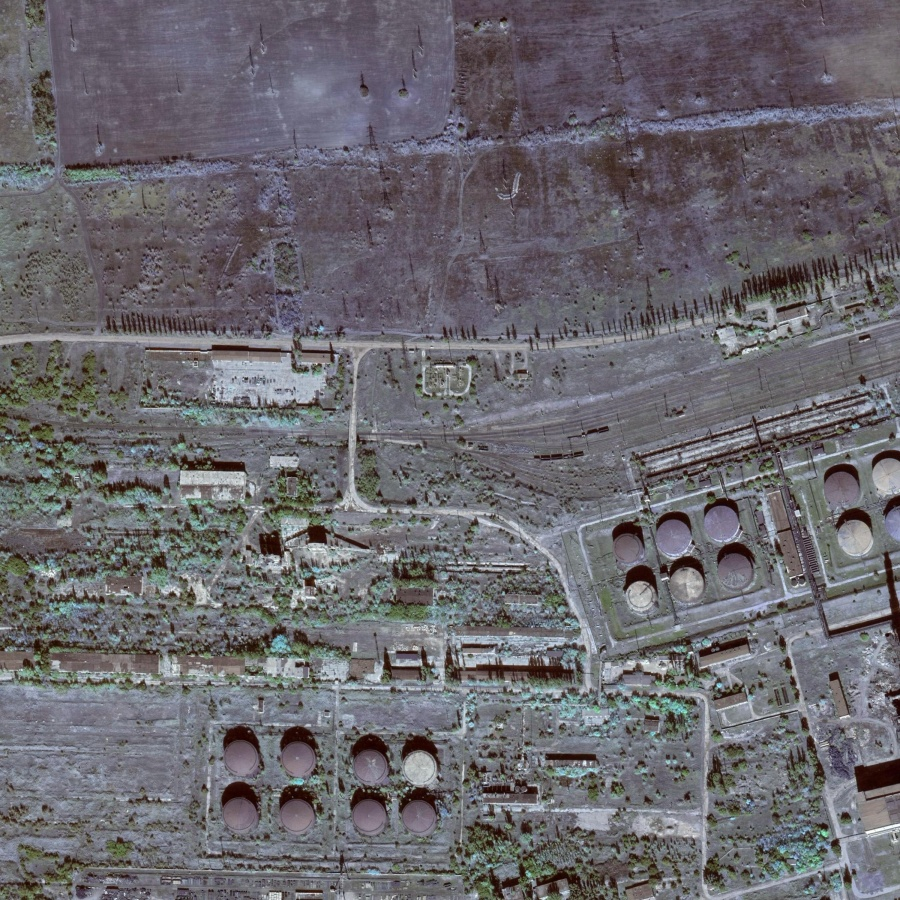PowerPlant: (188, 686, 458, 864), (574, 475, 782, 651)
